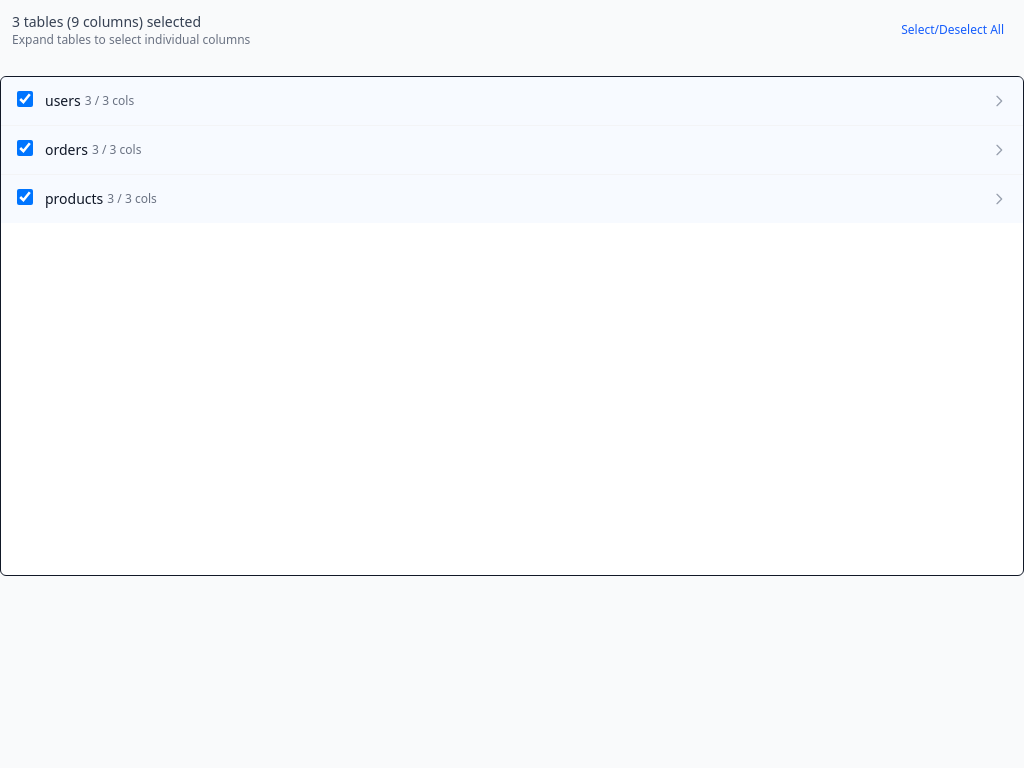
Test: SchemaSelector › Table Expansion › should collapse table when clicked again
Click the text "users".
click(63, 101)  # box [45,91,81,111]
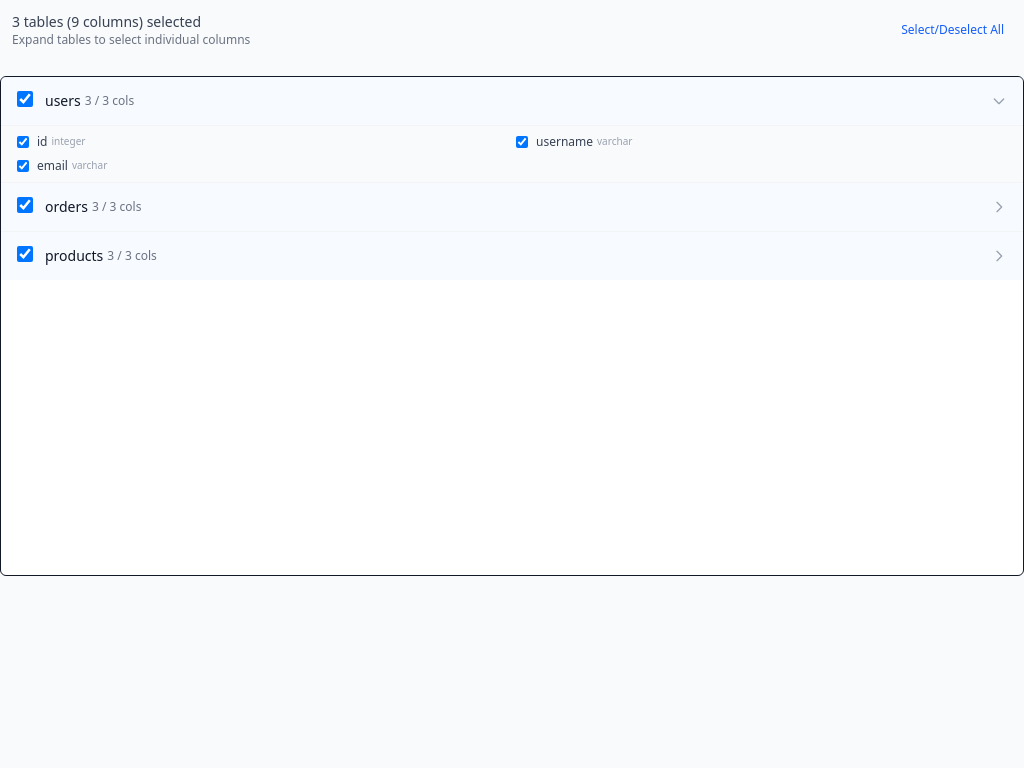
Check: the text "username" is shown, box [536,134,593,150]
Click the text "users".
click(63, 101)  # box [45,91,81,111]
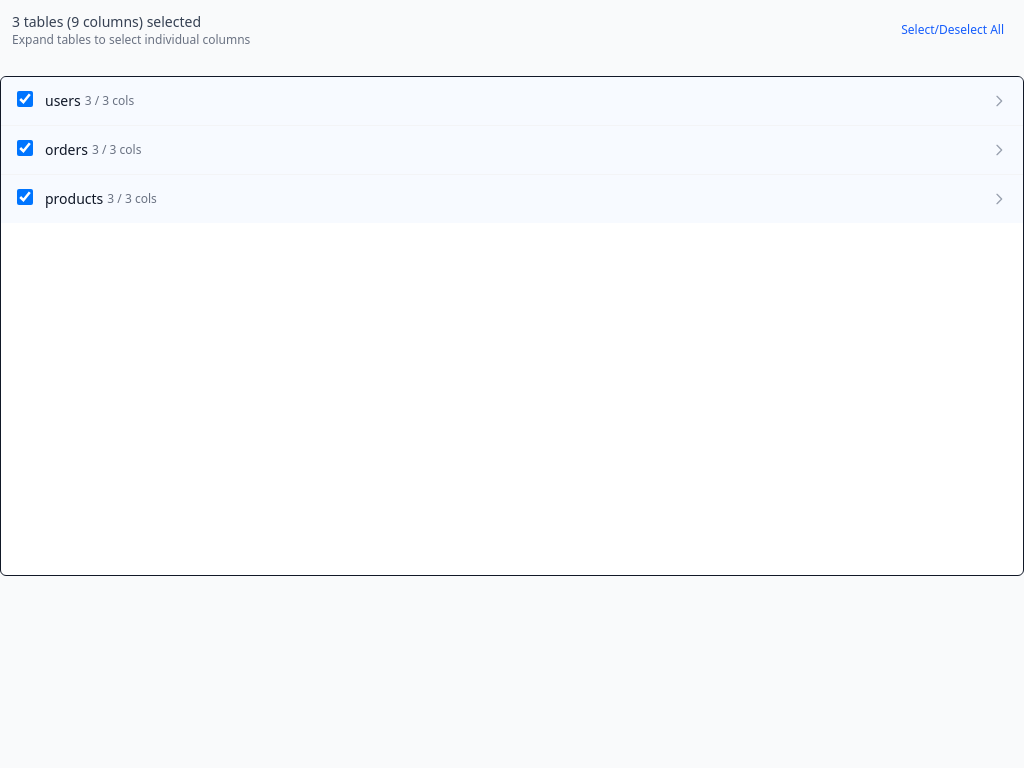
Check: the text "username" is gone
